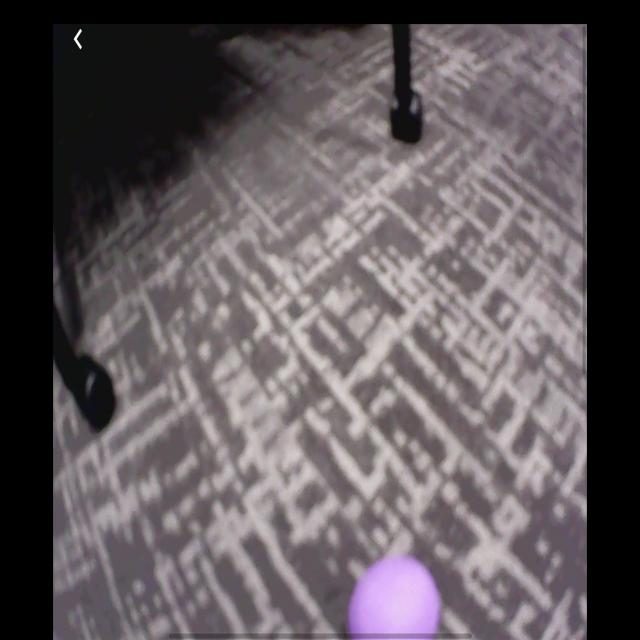ball: (348, 556, 442, 640)
